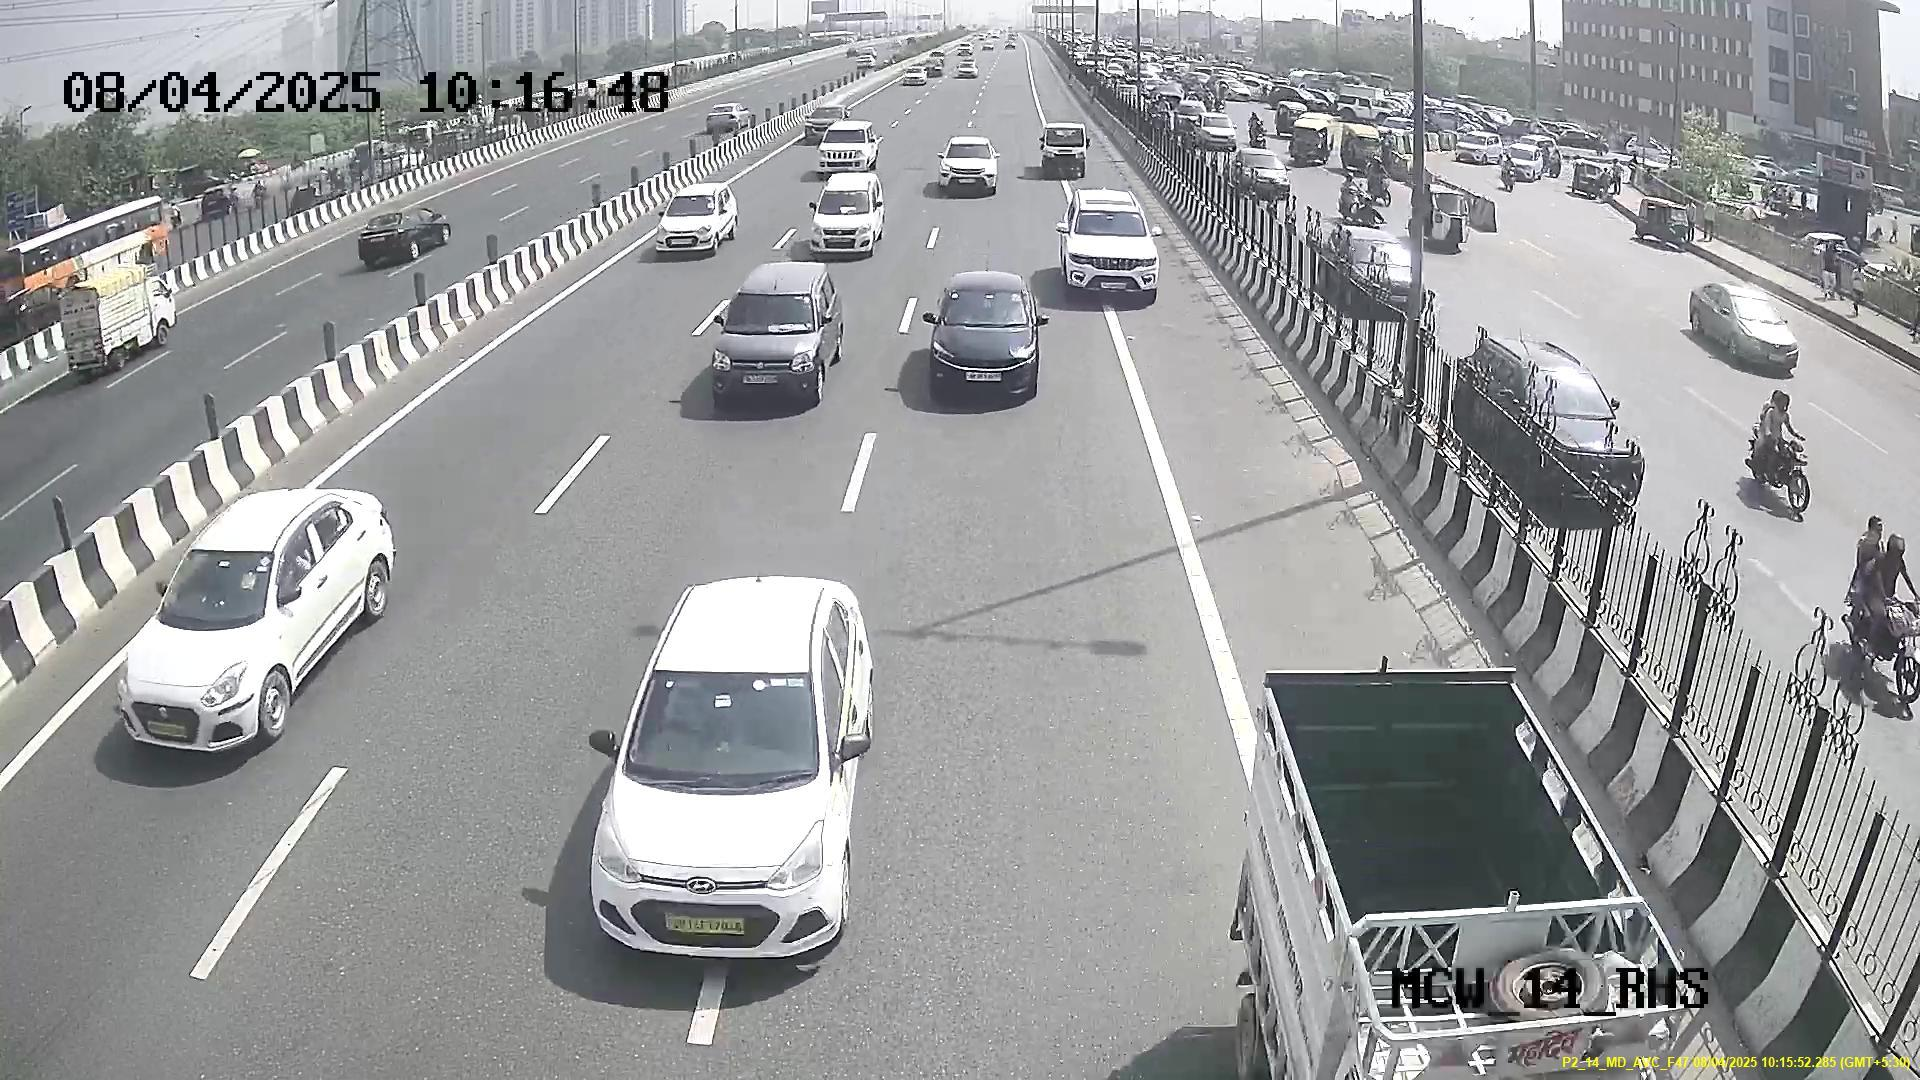car: (591, 646, 860, 963), (119, 512, 311, 754), (705, 276, 835, 407), (922, 276, 1047, 400), (1063, 195, 1164, 305), (811, 170, 886, 261), (655, 186, 732, 257)
